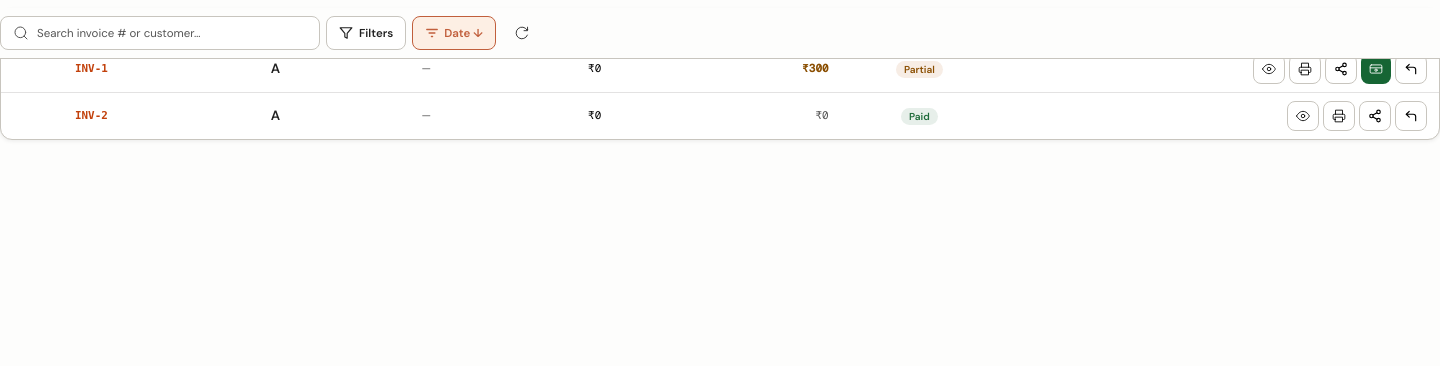
Scenario: InvoicesListView status chips › filters by the Paid chip
The image size is (1440, 366).
Expected: the text "INV-1" is shown, x1=1 y1=46 x2=182 y2=93
# Status chips now live inside the Filters popover — open it, then pick Paid.
Click the button "Filters".
click(366, 33)  # box x1=326 y1=16 x2=406 y2=50
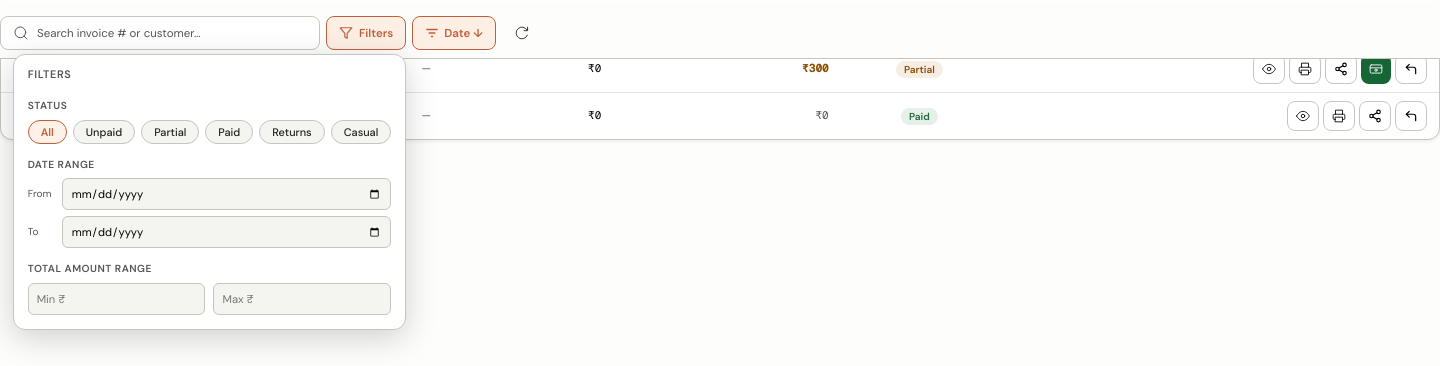
Click the button "Paid".
click(229, 132)  # box x1=205 y1=120 x2=253 y2=144
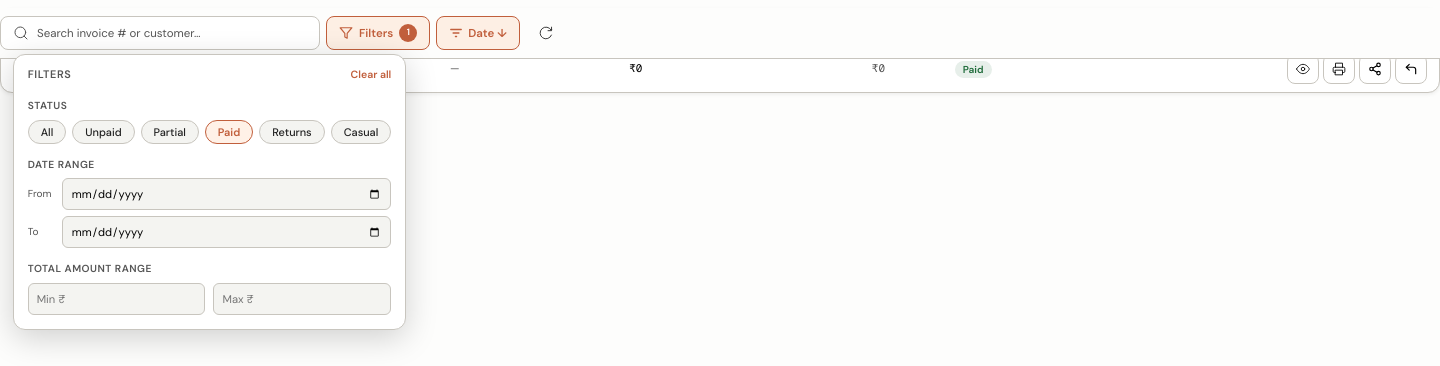
Expected: the text "INV-2" is shown, x1=1 y1=46 x2=194 y2=92
Now the text "INV-1" is gone
